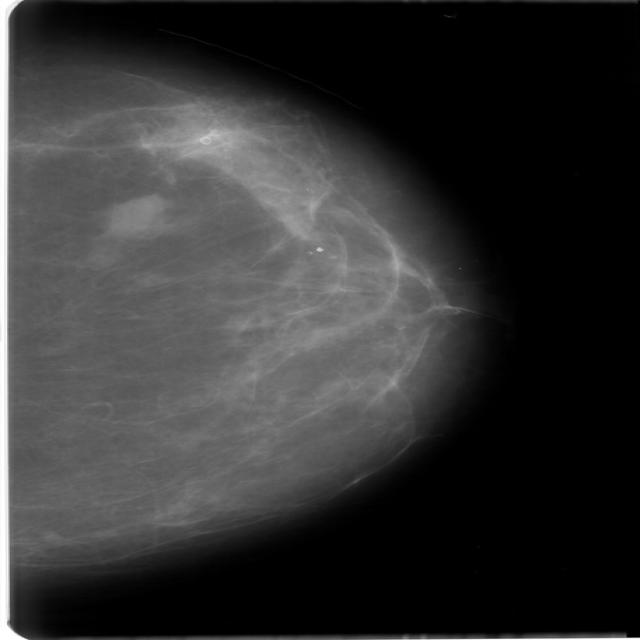tumour: (105, 192, 164, 236)
